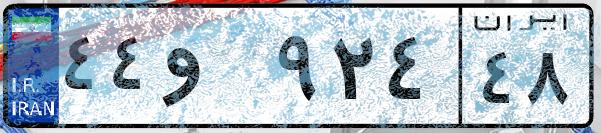2: (330, 28, 385, 110)
4: (385, 28, 445, 110), (57, 26, 110, 100), (475, 38, 525, 113), (110, 28, 158, 98)
8: (525, 38, 570, 115)
9: (270, 28, 330, 110)
و: (158, 20, 270, 120)
